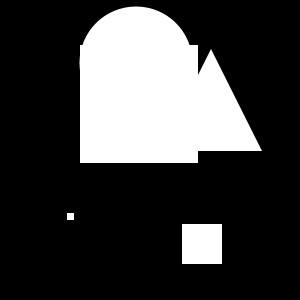circle: (80, 45, 198, 163), (182, 224, 222, 264), (67, 213, 74, 220)
rectangle: (80, 6, 192, 120)
triangle: (160, 49, 262, 151)
